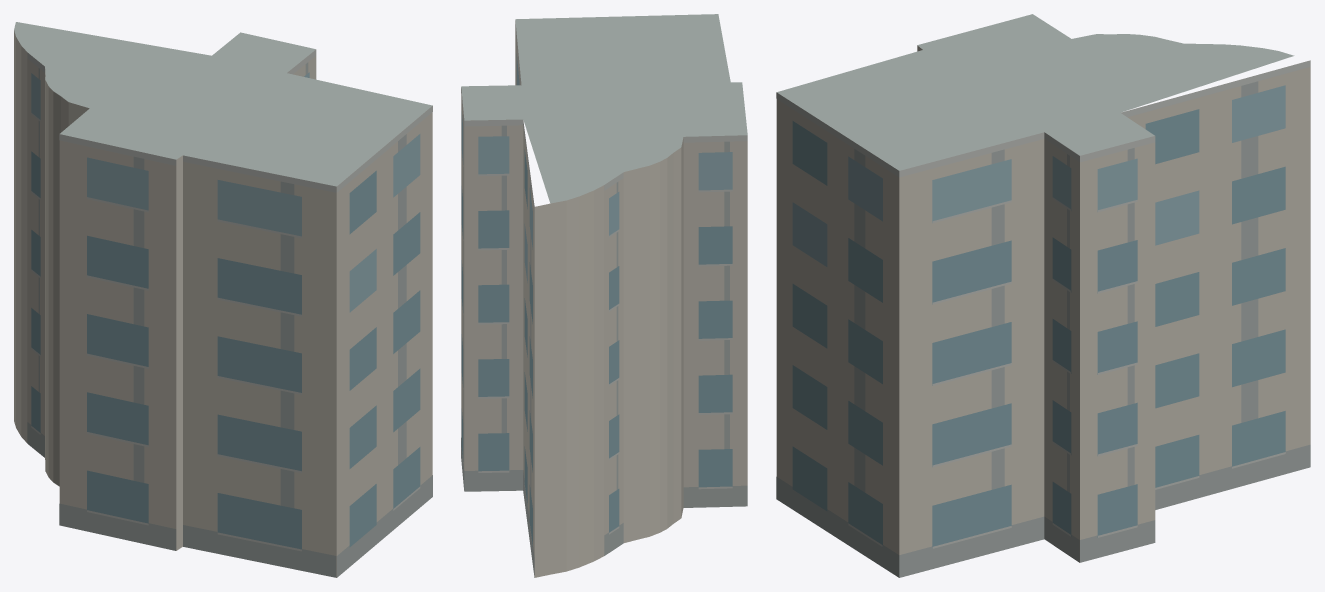
The model's file is survey-upis-32853607.glb.
3 renders of one model, left to right at view 1: azimuth 30°, elevation 25°; view 2: azimuth 150°, elevation 25°; view 3: azimuth 270°, elevation 25°, orthographic. The views are drawn at different scales.
Parts seen in each view (by area): view 1: survey-upis-32853607.tmp; view 2: survey-upis-32853607.tmp; view 3: survey-upis-32853607.tmp.
Boxes of the visible parts, left/top/right/bottom form: survey-upis-32853607.tmp: left=14, top=22, right=432, bottom=577; survey-upis-32853607.tmp: left=461, top=14, right=747, bottom=577; survey-upis-32853607.tmp: left=776, top=14, right=1310, bottom=577.
Size of the model in its own units: 12.62 by 15.25 by 18.14.
